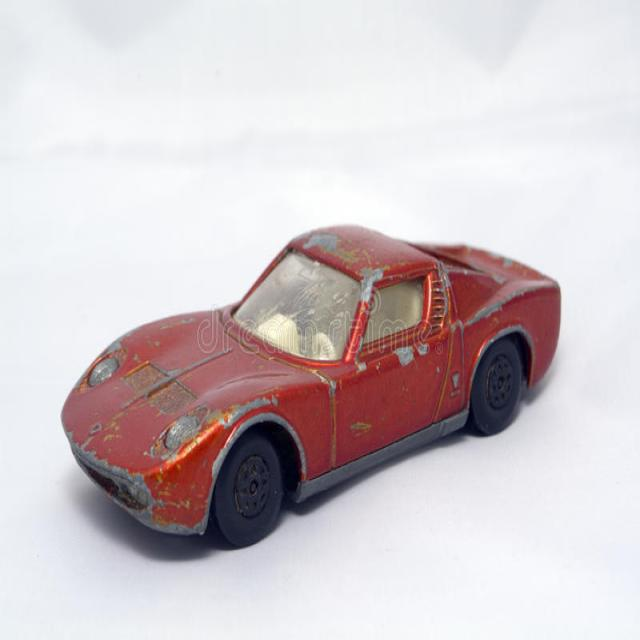Car: (60, 221, 562, 549)
